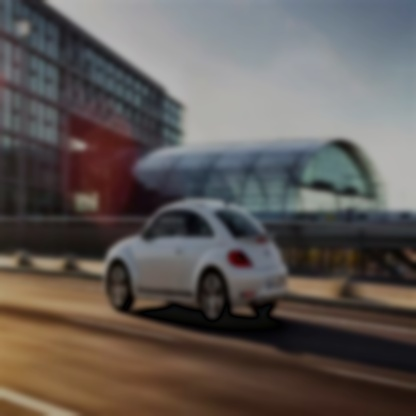Vehicle: (104, 200, 289, 326)
